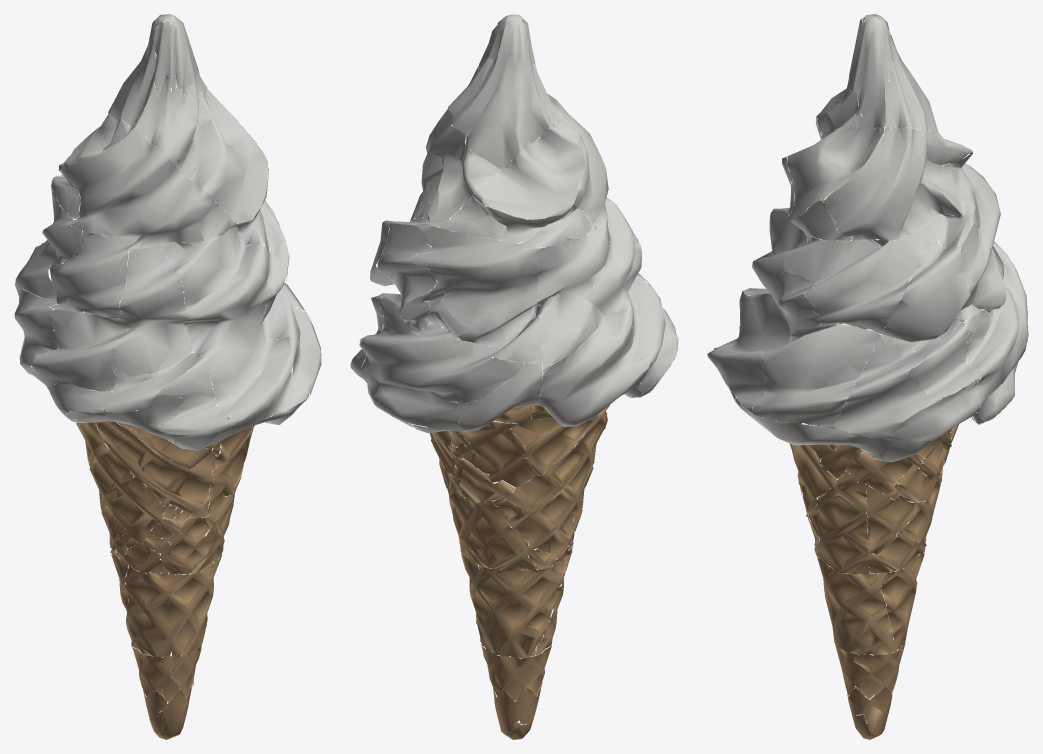
File: IceCream.glb
3 views of the same model, side by side, from view 1: azimuth 30°, elevation 25°; view 2: azimuth 150°, elevation 25°; view 3: azimuth 270°, elevation 25° (orthographic).
Parts seen in each view (by area): view 1: tripo_node_ee578e81-672f-43ee-aa22-3bd67bcdee5e; view 2: tripo_node_ee578e81-672f-43ee-aa22-3bd67bcdee5e; view 3: tripo_node_ee578e81-672f-43ee-aa22-3bd67bcdee5e.
Part boxes in pixels (x1=…): tripo_node_ee578e81-672f-43ee-aa22-3bd67bcdee5e: x1=14, y1=14, x2=321, y2=739; tripo_node_ee578e81-672f-43ee-aa22-3bd67bcdee5e: x1=350, y1=14, x2=678, y2=739; tripo_node_ee578e81-672f-43ee-aa22-3bd67bcdee5e: x1=707, y1=14, x2=1028, y2=739.
Bounding box in the file's own units: 0.3769 × 0.9798 × 0.3952.
Materials: 1 (1 with a texture image).
